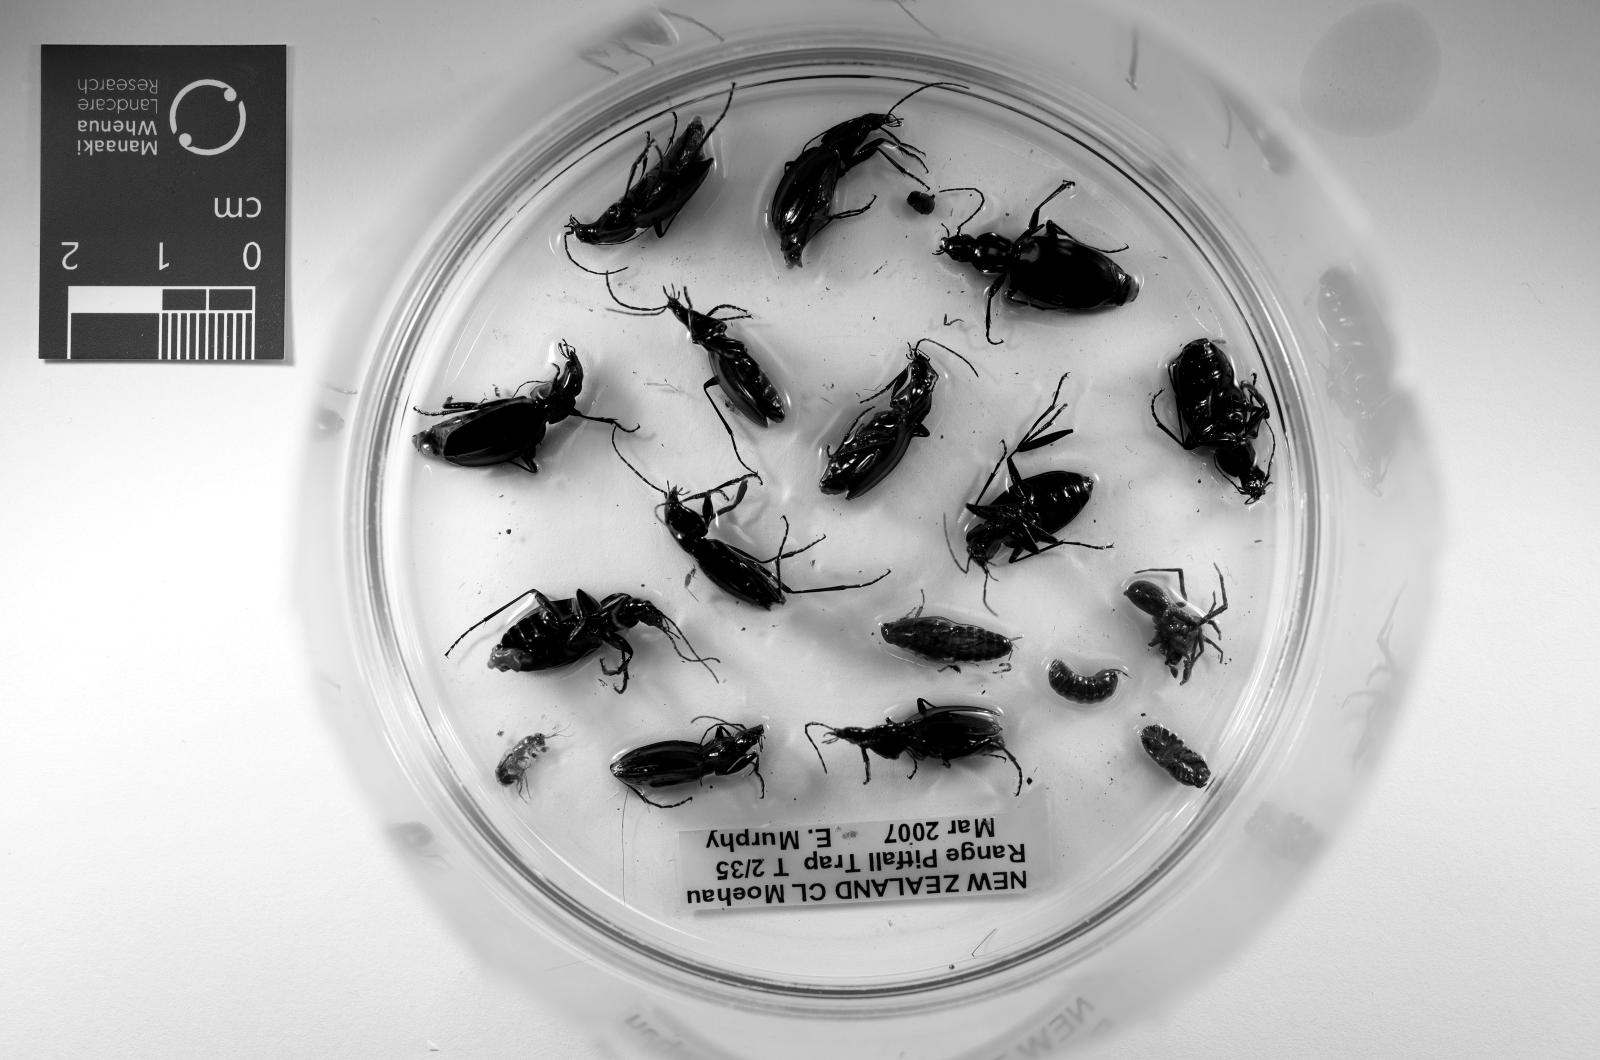amphipoda: (497, 733, 546, 801)
araneae: (1125, 568, 1229, 684)
blattodea: (881, 606, 1012, 665)
carabidae: (938, 208, 1141, 344), (660, 487, 887, 608), (413, 342, 622, 472), (443, 590, 687, 692), (966, 379, 1094, 571), (769, 111, 925, 267), (565, 111, 725, 245), (1149, 338, 1269, 503), (818, 344, 938, 500), (807, 699, 1016, 783), (666, 289, 784, 426), (609, 717, 765, 807), (631, 134, 656, 177)
isopoda: (1141, 726, 1210, 789), (1047, 658, 1122, 705)
